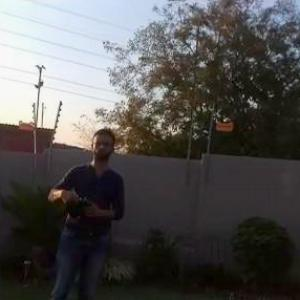follow: (36, 115, 130, 299)
